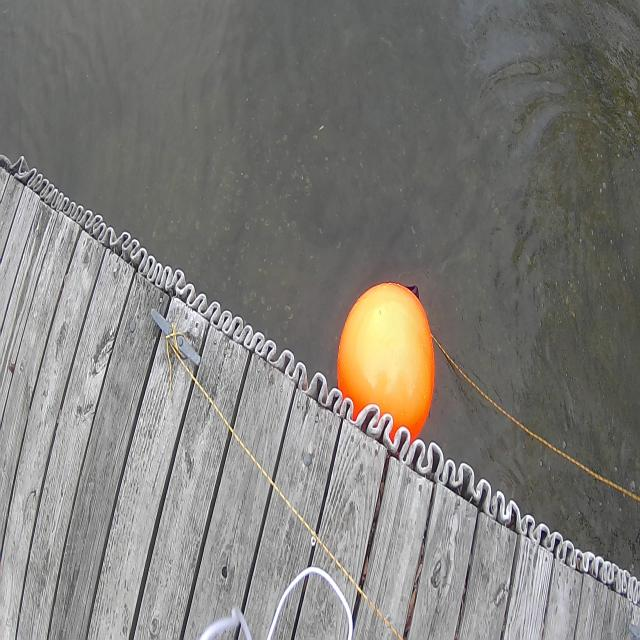Buoy: (328, 273, 440, 455)
